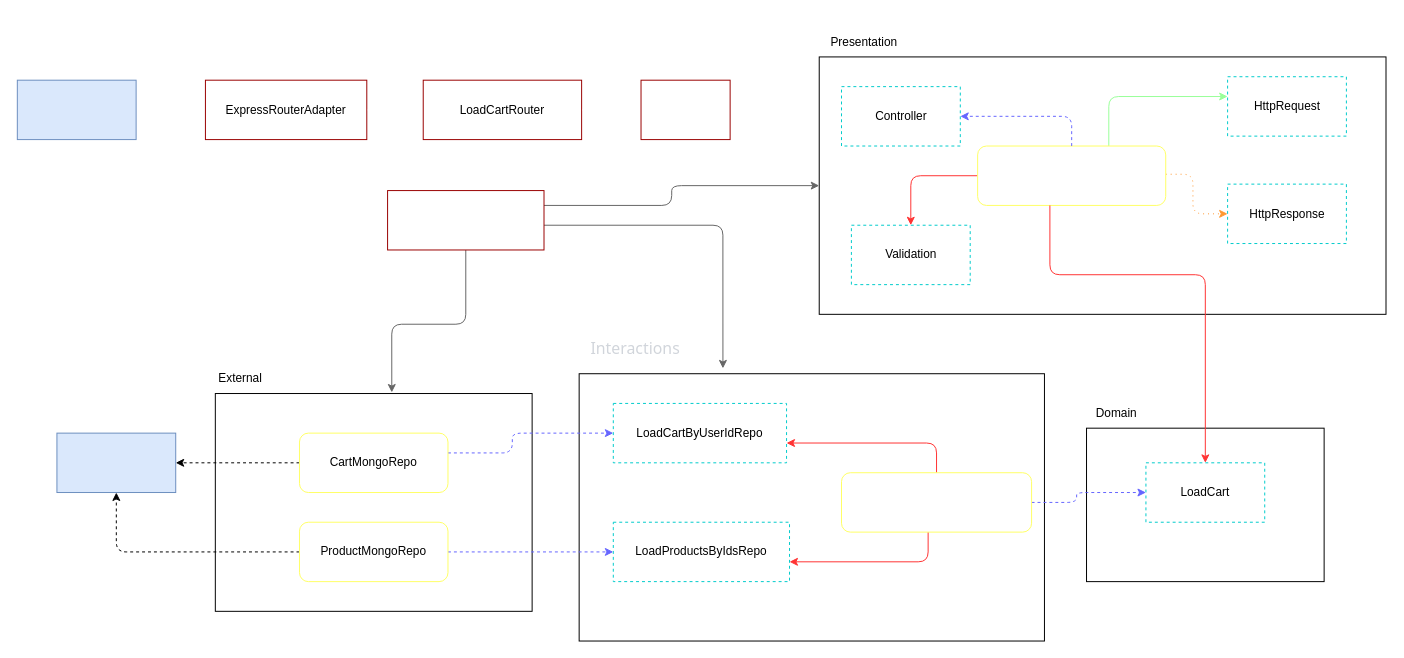
The diagram is 1404 pixels wide and 658 high, and some of its shapes have lost their labels. Each missing label, with the centre of its shape:
"App" goes at [685,109].
"Express" goes at [76,109].
"LoadCartController" goes at [1071,175].
"LoadCartFactory" goes at [465,220].
"LoadCartUseCase" goes at [936,502].
"MongoDb" goes at [116,462].
